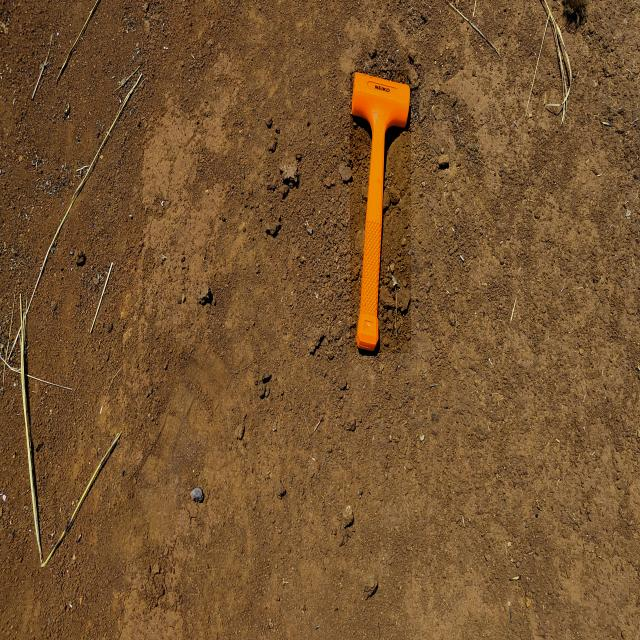Orange_hammer: (350, 70, 411, 353)
